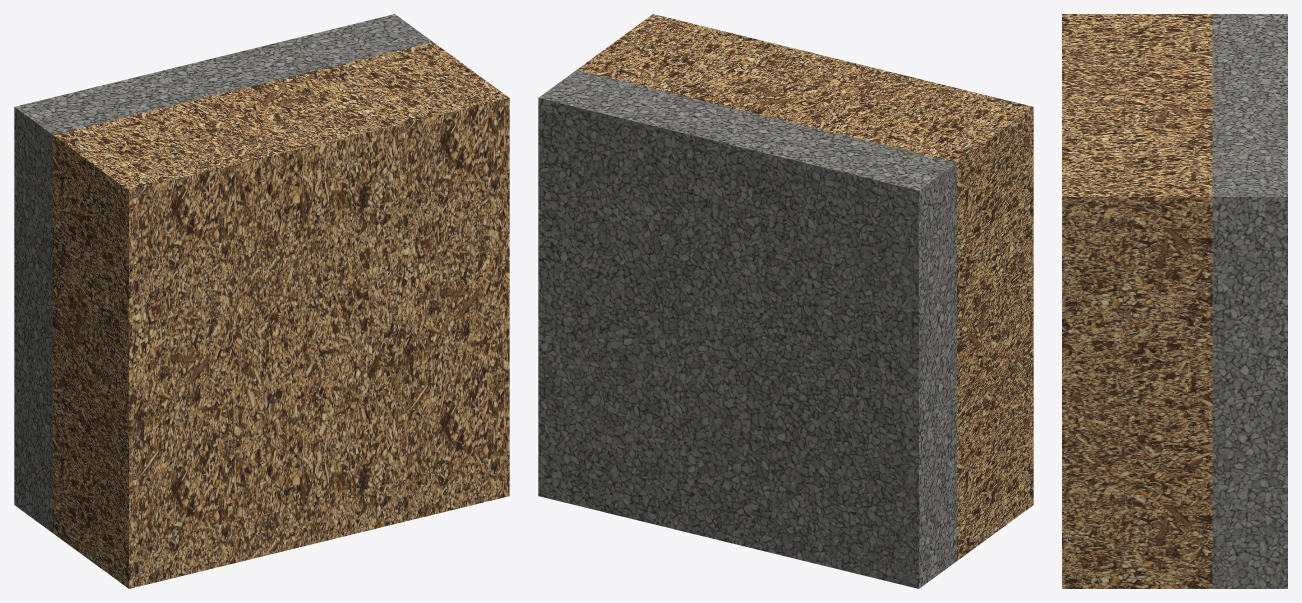
File: SMR_1CH.gltf
3 renders of one model, left to right at view 1: azimuth 30°, elevation 25°; view 2: azimuth 150°, elevation 25°; view 3: azimuth 270°, elevation 25°, orthographic.
Visible parts, largest first — view 1: Mesh_0.002, Mesh_1.001; view 2: Mesh_1.001, Mesh_0.002; view 3: Mesh_0.002, Mesh_1.001.
Part boxes in pixels (box(x1,y1,x2,y2)): Mesh_0.002: box(52, 42, 509, 588); Mesh_1.001: box(14, 14, 432, 532); Mesh_1.001: box(538, 70, 956, 588); Mesh_0.002: box(577, 14, 1033, 560); Mesh_0.002: box(1062, 14, 1212, 588); Mesh_1.001: box(1212, 14, 1287, 588).
Bounding box in the file's own units: 1.15 × 1.15 × 0.6.
2 materials, 2 textured.
